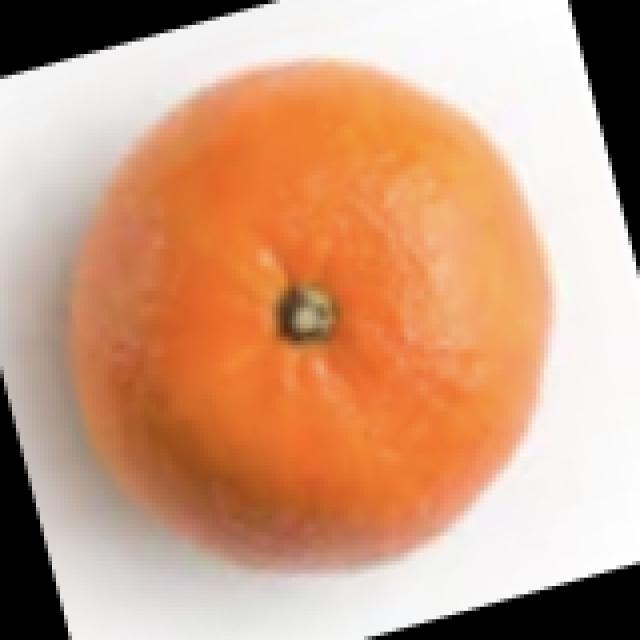matang: (71, 63, 550, 554)
